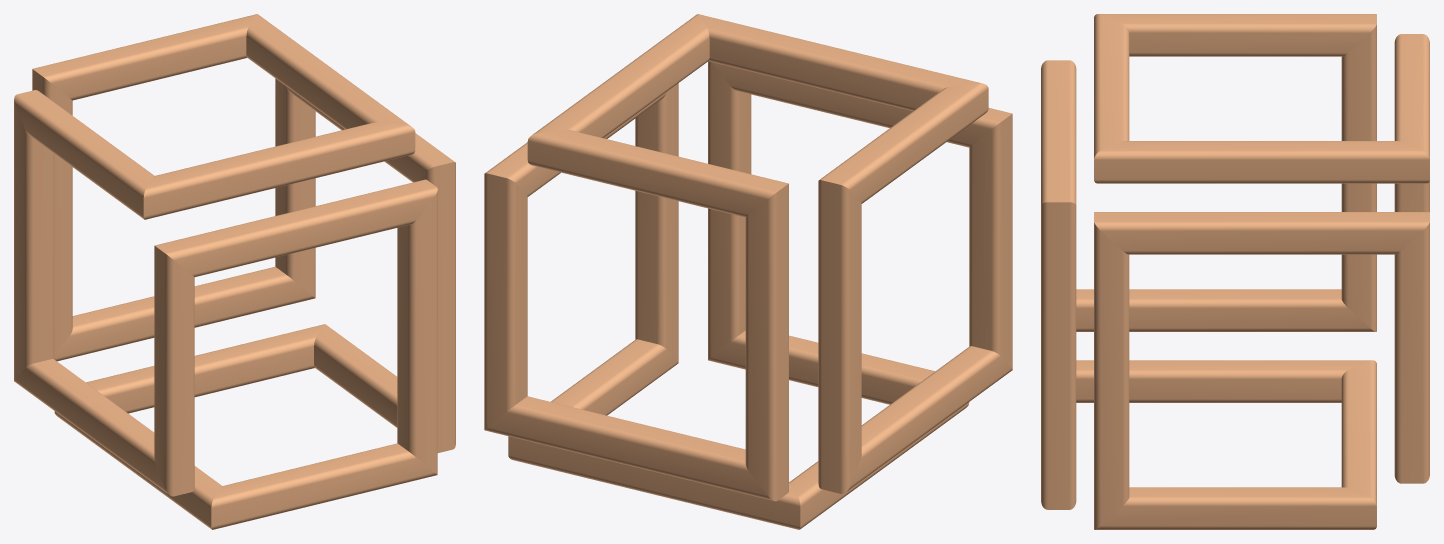
The model's file is L_4_art cube.glb.
3 renders of one model, left to right at view 1: azimuth 30°, elevation 25°; view 2: azimuth 150°, elevation 25°; view 3: azimuth 270°, elevation 25°, orthographic. The views are drawn at different scales.
Visible parts, largest first — view 1: L_4_art cube; view 2: L_4_art cube; view 3: L_4_art cube.
Part boxes in pixels (<box>): L_4_art cube: <box>14,14,455,529</box>; L_4_art cube: <box>484,14,1012,529</box>; L_4_art cube: <box>1041,14,1429,529</box>.
Size of the model in its own units: 3.42 by 3.46 by 3.42.
